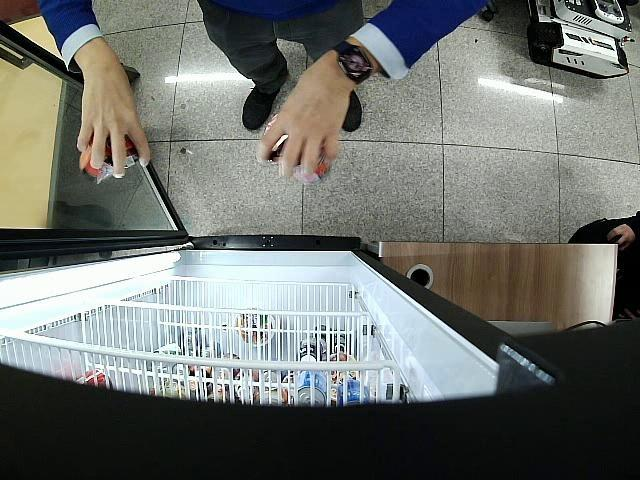02_shinRamen_S: (265, 114, 332, 177), (78, 135, 140, 181)
